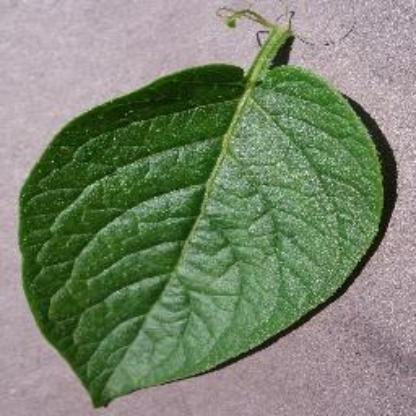Healthy-plant: (17, 24, 386, 411)
